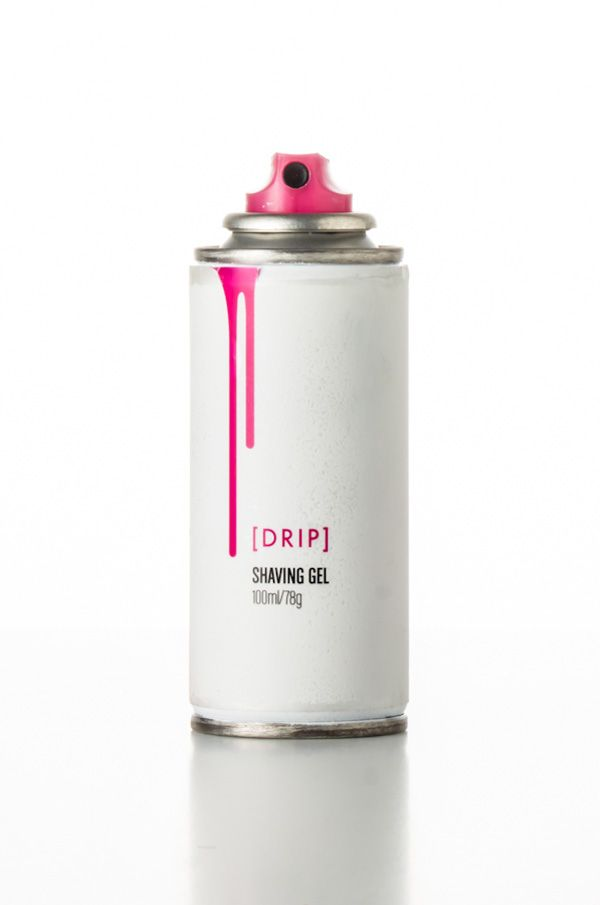Aerosol_cans: (175, 146, 425, 759)
